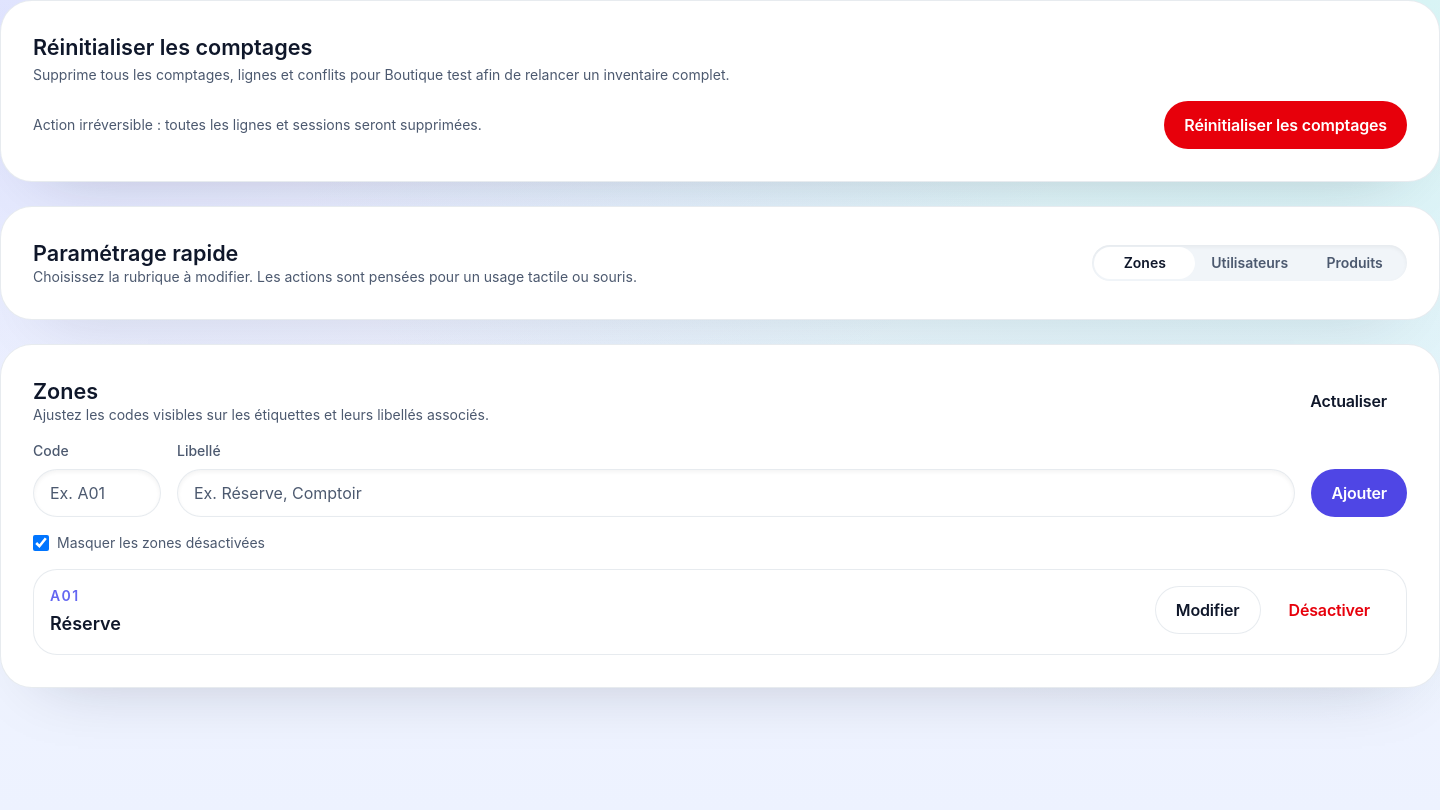
Test: AdminLocationsPage › propose la purge quand la désactivation renvoie un conflit
Click the button "Désactiver".
click(1329, 610)  # box [1268, 586, 1390, 634]
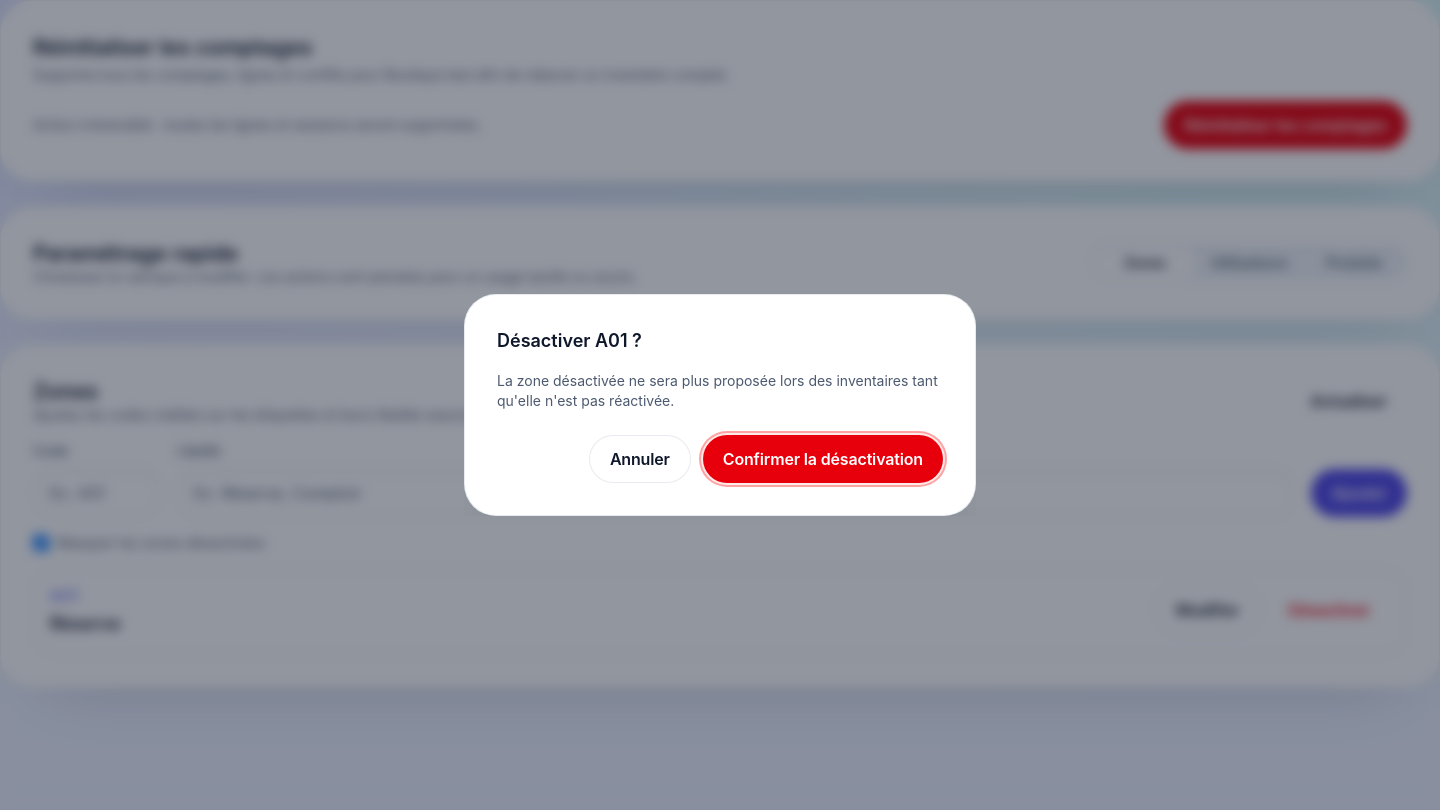
Click the button "Confirmer la désactivation".
click(823, 459)  # box [703, 435, 943, 483]
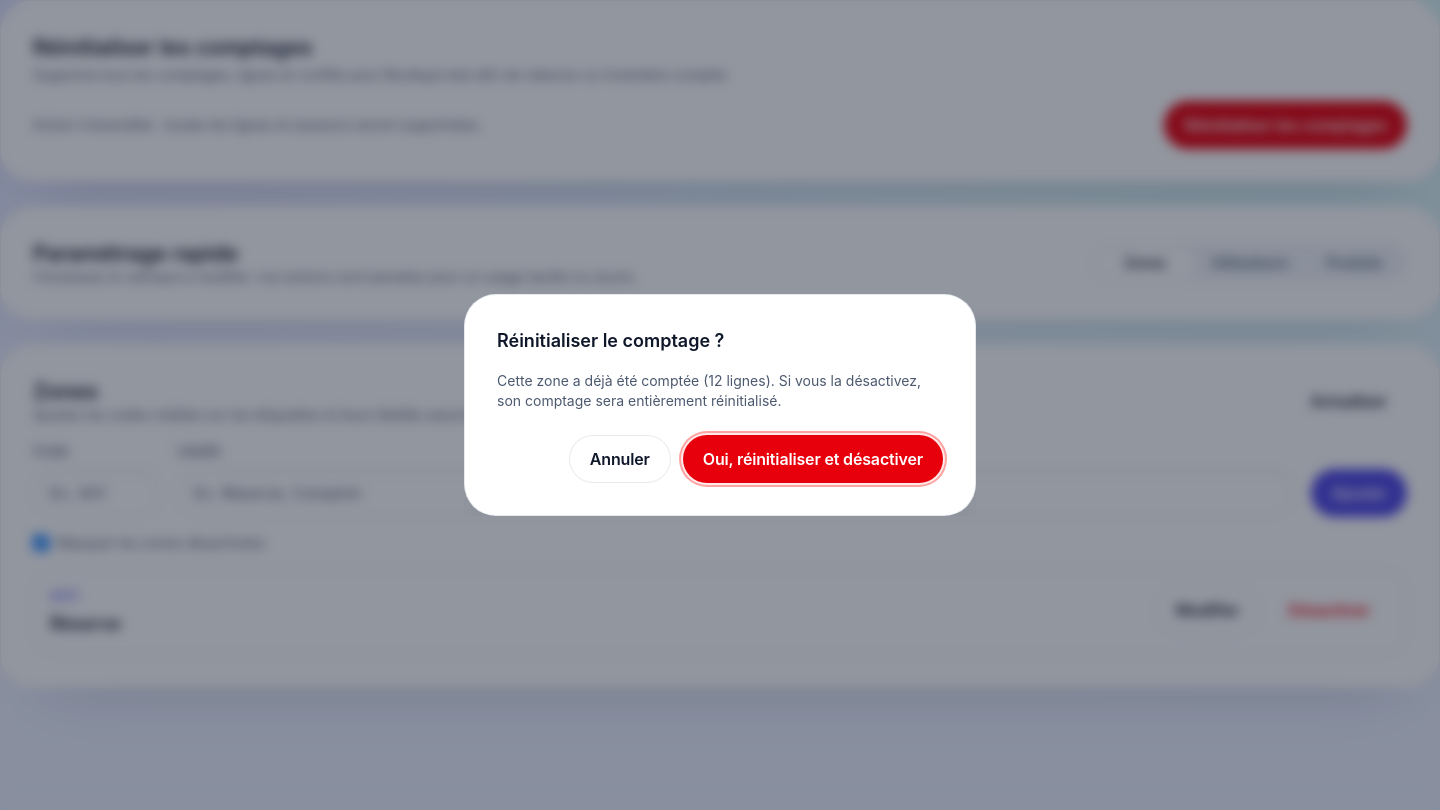
Now the text "déjà été comptée" is shown, box [497, 372, 921, 409]
Click the button "Oui, réinitialiser et désactiver".
click(813, 459)  # box [683, 435, 943, 483]
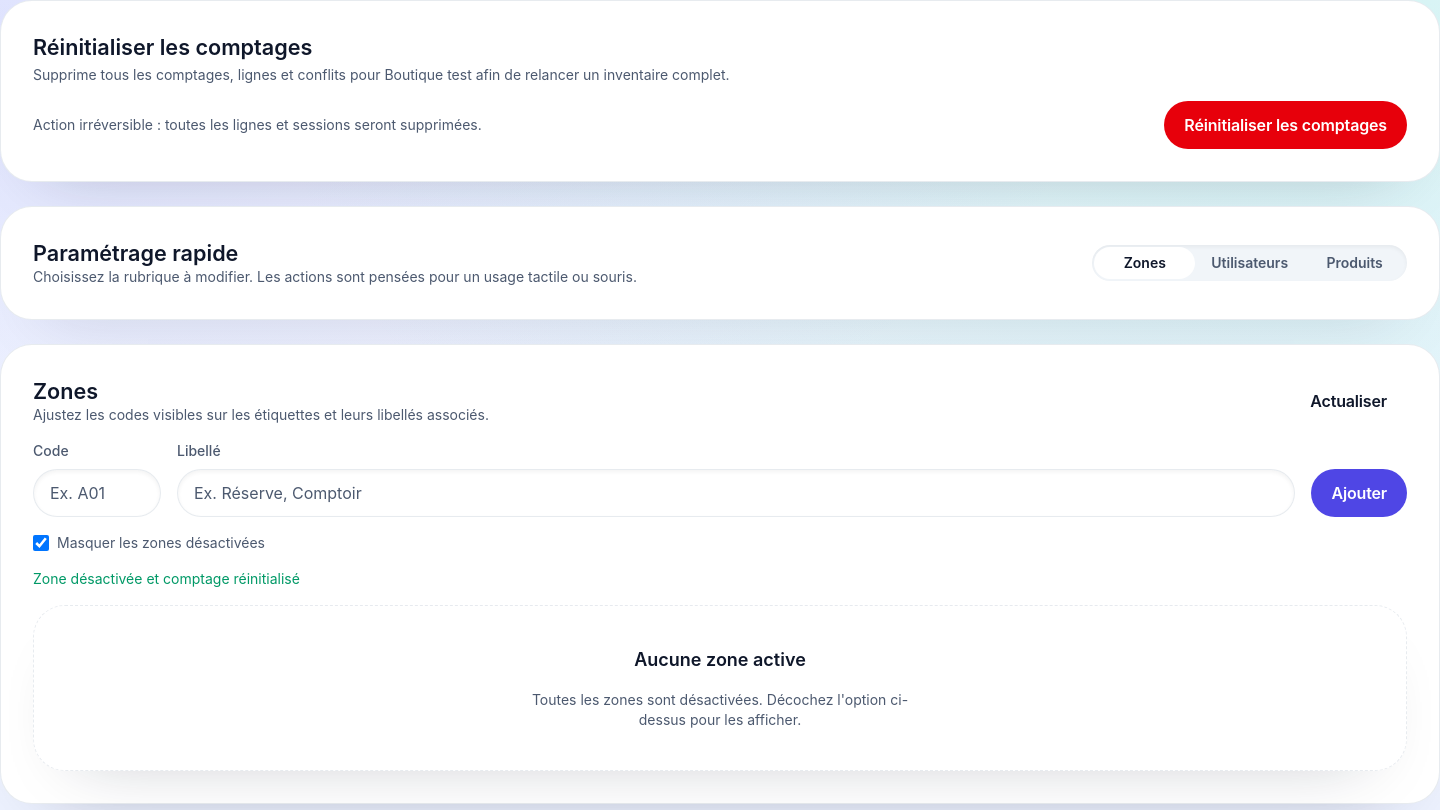
Now the text "Zone désactivée et comptage réinitialisé" is shown, box [33, 570, 300, 587]
